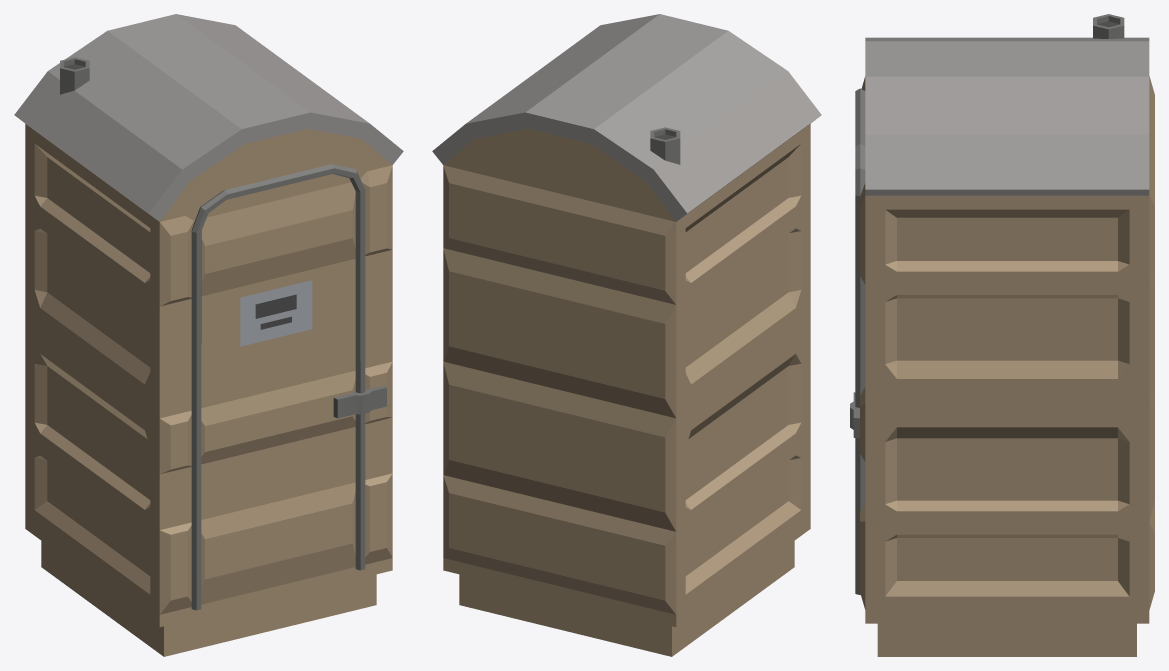
File: SM_Prop_Portaloo_01.fbx
The picture shows the model from 3 angles, left to right: view 1: azimuth 30°, elevation 25°; view 2: azimuth 150°, elevation 25°; view 3: azimuth 270°, elevation 25°; orthographic projection. The views are drawn at different scales.
Visible parts, largest first — view 1: SM_Prop_Portaloo_01, SM_Prop_Portaloo_Door_01; view 2: SM_Prop_Portaloo_01; view 3: SM_Prop_Portaloo_01, SM_Prop_Portaloo_Door_01.
Part boxes in pixels (left/top/right/bottom): SM_Prop_Portaloo_01: left=14, top=14, right=403, bottom=656; SM_Prop_Portaloo_Door_01: left=191, top=164, right=386, bottom=610; SM_Prop_Portaloo_01: left=432, top=14, right=821, bottom=656; SM_Prop_Portaloo_01: left=860, top=14, right=1154, bottom=656; SM_Prop_Portaloo_Door_01: left=850, top=88, right=865, bottom=595.
Size of the model in its own units: 163 by 314 by 160.
